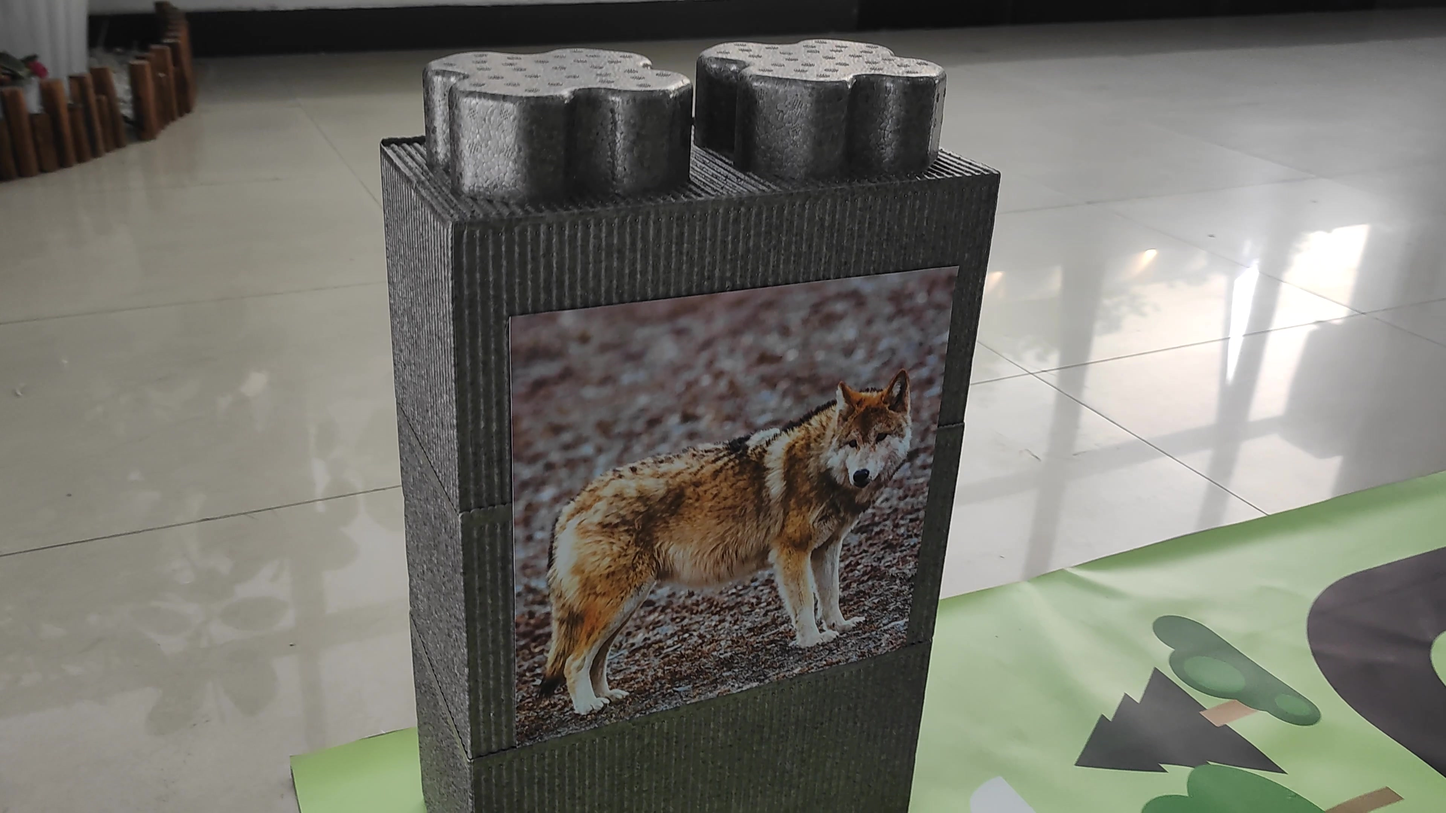wolf: (533, 370, 913, 701)
